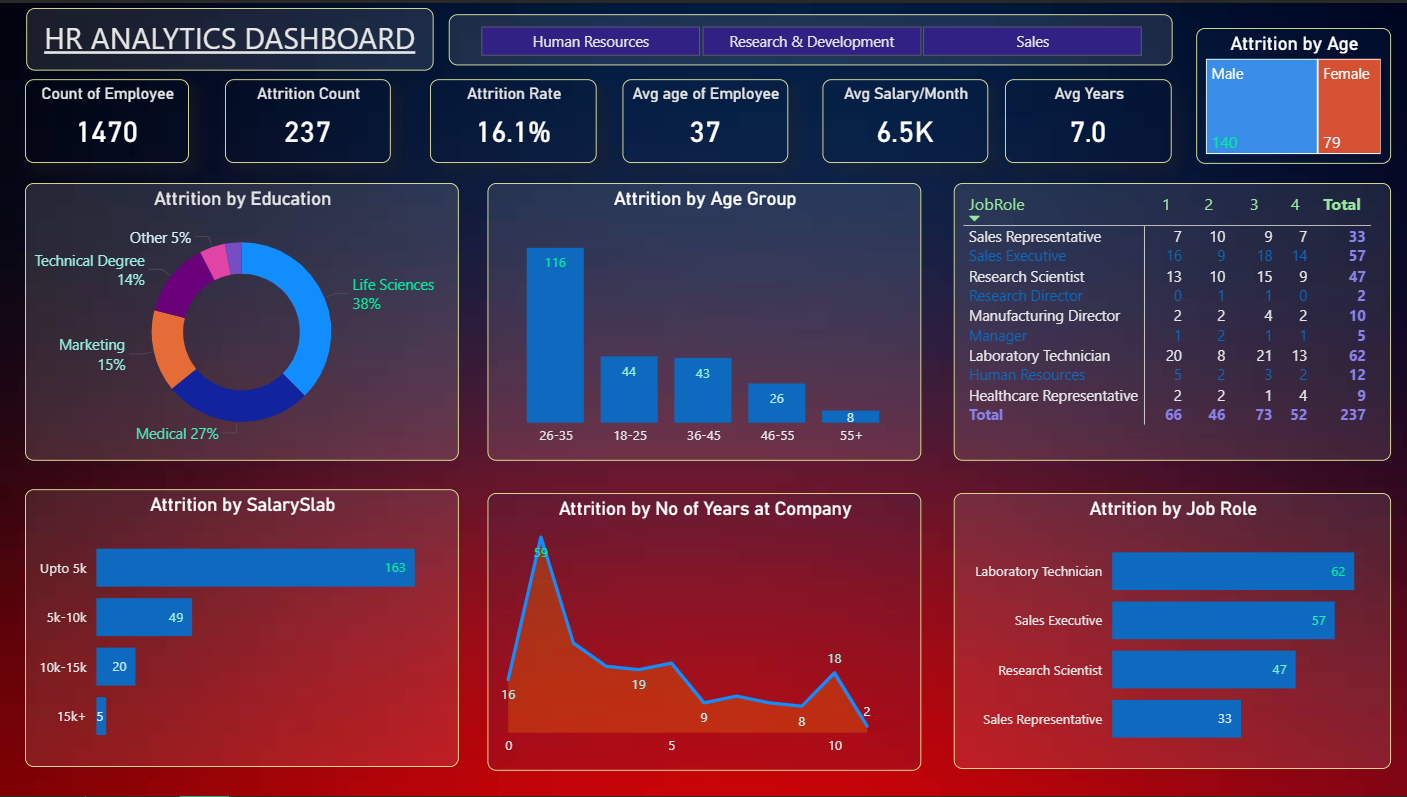

This screenshot's page, from the dashboard's own definition file:
{"tool":"powerbi","page":{"name":"Page 1","canvas":[1280,720],"ordinal":0},"visuals":[{"type":"card","title":"Count of Employee","fields":{"Values":["Sum(HR_Analytics.EmployeeCount)"]},"box":[23,69,148.8,76.2],"z":0},{"type":"card","title":"Attrition Count","fields":{"Values":["Sum(HR_Analytics.AttritionCount)"]},"box":[204.5,69,150,76.2],"z":1000},{"type":"card","title":"Attrition Rate","fields":{"Values":["HR_Analytics.AttritionRate"]},"box":[389.6,69,151.3,76.2],"z":2000},{"type":"card","title":"Avg age of Employee","fields":{"Values":["Avg(HR_Analytics.Age)"]},"box":[565.1,69,150,76.2],"z":3000},{"type":"card","title":"Avg Salary/Month","fields":{"Values":["Avg(HR_Analytics.MonthlyIncome)"]},"box":[746.6,69,150,76.2],"z":4000},{"type":"card","title":"Avg Years","fields":{"Values":["Avg(HR_Analytics.YearsAtCompany)"]},"box":[912.4,69,151.3,76.2],"z":5000},{"type":"donutChart","title":"Attrition by Education","fields":{"Category":["HR_Analytics.EducationField"],"Y":["Sum(HR_Analytics.AttritionCount)"]},"box":[23,163.4,393.3,251.7],"z":6000},{"type":"clusteredColumnChart","title":"Attrition by Age Group ","fields":{"Category":["HR_Analytics.AgeGroup"],"Y":["Sum(HR_Analytics.AttritionCount)"]},"box":[442.9,163.4,393.3,251.7],"z":7000},{"type":"pivotTable","title":"Attrition by Age Group ","fields":{"Rows":["HR_Analytics.JobRole"],"Columns":["HR_Analytics.JobSatisfaction"],"Values":["Sum(HR_Analytics.AttritionCount)"]},"box":[865.2,163.4,396.9,251.7],"z":8000},{"type":"clusteredBarChart","title":"Attrition by SalarySlab","fields":{"Category":["HR_Analytics.SalarySlab"],"Y":["Sum(HR_Analytics.AttritionCount)"]},"box":[23,441.7,393.3,251.7],"z":9000},{"type":"clusteredBarChart","title":"Attrition by Job Role","fields":{"Category":["HR_Analytics.JobRole"],"Y":["Sum(HR_Analytics.AttritionCount)"]},"box":[865.2,444.1,396.9,250.5],"z":10000},{"type":"areaChart","title":"Attrition by No of Years at Company","fields":{"Category":["HR_Analytics.YearsAtCompany"],"Y":["Sum(HR_Analytics.AttritionCount)"]},"box":[442.9,444.1,393.3,251.7],"z":11000},{"type":"treemap","title":"Attrition by Age","fields":{"Group":["HR_Analytics.Gender"],"Values":["Sum(HR_Analytics.AttritionCount)"]},"box":[1085.4,23,176.7,123.4],"z":12000},{"type":"slicer","fields":{"Values":["HR_Analytics.Department"]},"box":[407,10.5,657,46.5],"z":13000},{"type":"textbox","box":[23.3,4.7,369.8,57],"z":14000}]}

Visuals, with their boxes in screenshot pixels (x1, y1, x2, y2), scaled from the page's 1280x720 canvas onto the 1407x797 screenshot:
"Count of Employee" card: 25, 76, 189, 161
"Attrition Count" card: 225, 76, 390, 161
"Attrition Rate" card: 428, 76, 595, 161
"Avg age of Employee" card: 621, 76, 786, 161
"Avg Salary/Month" card: 821, 76, 986, 161
"Avg Years" card: 1003, 76, 1169, 161
"Attrition by Education" donutChart: 25, 181, 458, 459
"Attrition by Age Group " clusteredColumnChart: 487, 181, 919, 459
"Attrition by Age Group " pivotTable: 951, 181, 1387, 459
"Attrition by SalarySlab" clusteredBarChart: 25, 489, 458, 768
"Attrition by Job Role" clusteredBarChart: 951, 492, 1387, 769
"Attrition by No of Years at Company" areaChart: 487, 492, 919, 770
"Attrition by Age" treemap: 1193, 25, 1387, 162
slicer - HR_Analytics.Department: 447, 12, 1170, 63
textbox: 26, 5, 432, 68
